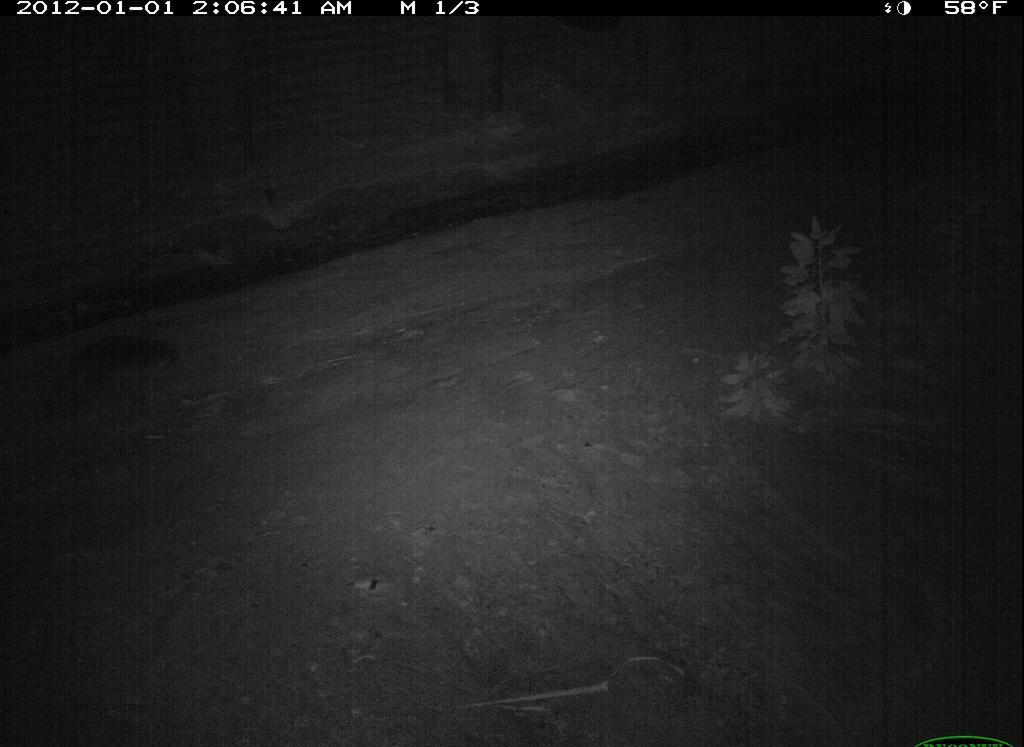raccoon: (35, 324, 196, 431)
